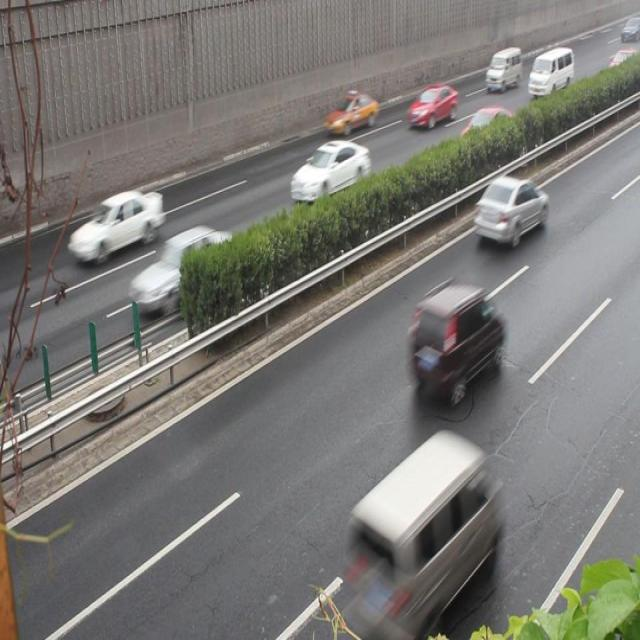car: (406, 281, 501, 400), (128, 225, 235, 318), (70, 191, 162, 259), (473, 174, 547, 246), (290, 140, 370, 204), (458, 108, 514, 158), (323, 92, 376, 136), (406, 85, 456, 131)
truck: (342, 430, 496, 625), (483, 48, 521, 88)
